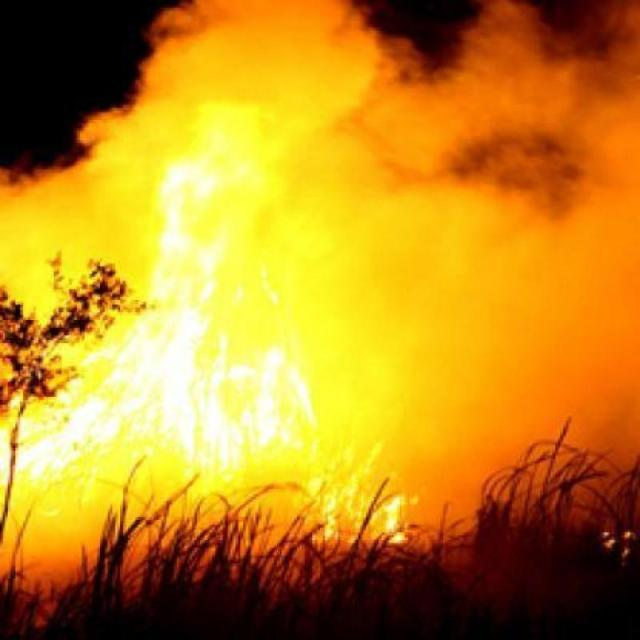Fire: (0, 243, 640, 582)
